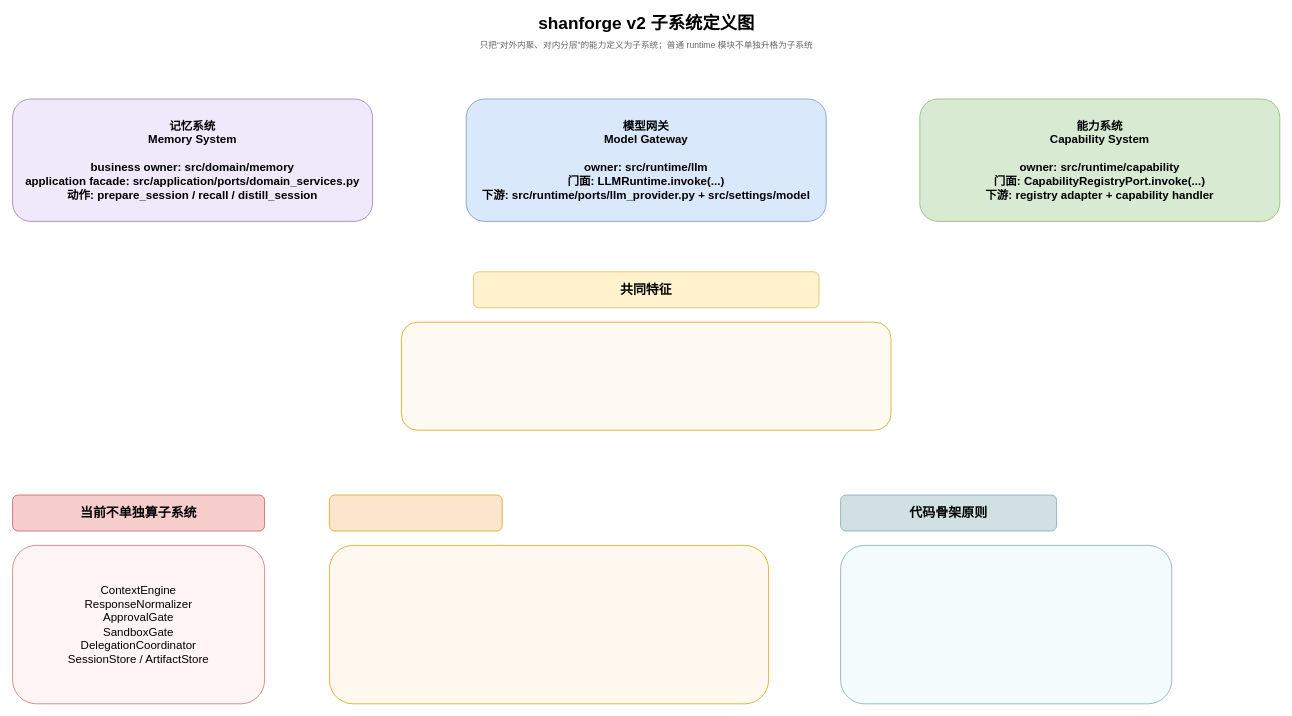
Some shapes in this 1292 by 716 pixel diagram are drawn without their labels. Each missing label, with the centre of its shape:
"1. 上层只看到一个稳定门面 2. 子系统内部跨多层协作 3. 有独立状态 / 策略 / 治理逻辑 4. 消费者定义 port，下层按 port 实现" belongs at point (646, 375).
"src 第一层文件夹就是层 第二层文件夹就是模块 模块本身就是内聚领域 port 跟着消费者所在层走" belongs at point (1006, 624).
"原因" belongs at point (415, 512).
"这些能力现在仍然更适合作为 runtime / settings 内部模块存在。它们很重要，但还没有形成“对外统一门面 + 对内跨层协作”的独立能力单元。" belongs at point (549, 624).
